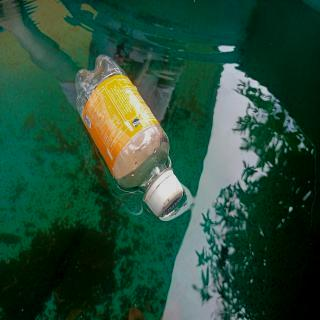bottle: (74, 52, 184, 218)
